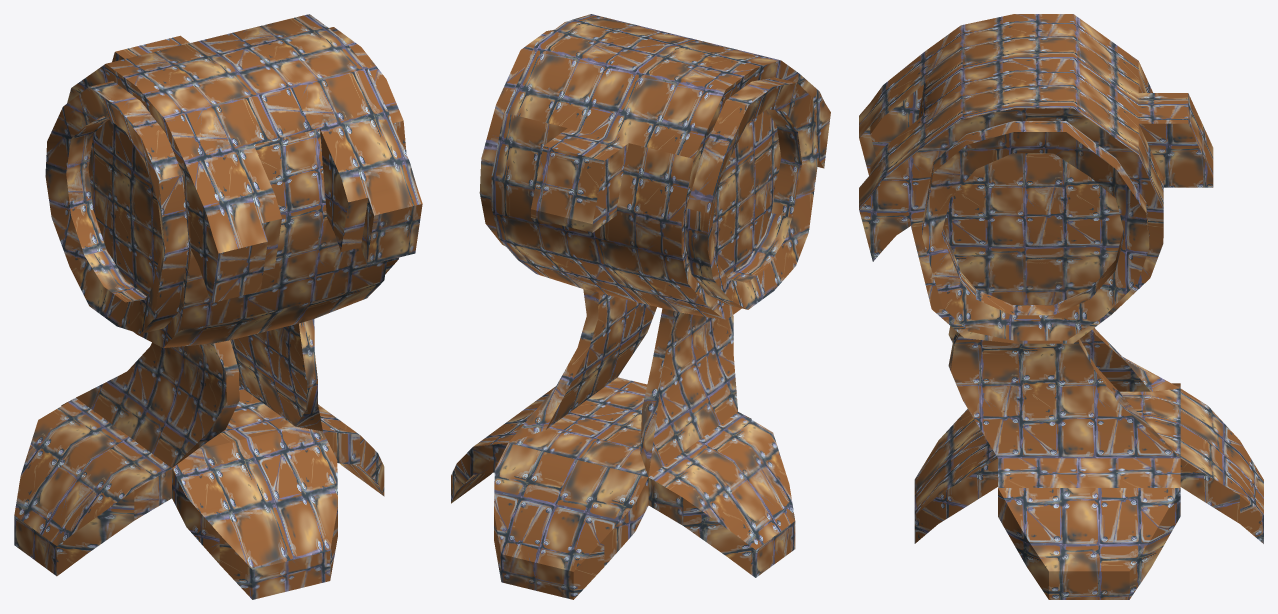
File: JumpRob.fbx
3 views of the same model, side by side, from view 1: azimuth 30°, elevation 25°; view 2: azimuth 150°, elevation 25°; view 3: azimuth 270°, elevation 25° (orthographic). The views are drawn at different scales.
Parts seen in each view (by area): view 1: polySurface1; view 2: polySurface1; view 3: polySurface1.
Boxes of the visible parts, x1,y1,x2,y2 form: polySurface1: (14, 14, 422, 599); polySurface1: (451, 14, 830, 599); polySurface1: (859, 14, 1263, 599).
Size of the model in its own units: 5.76 by 8.24 by 6.5.
1 material, 1 textured.
